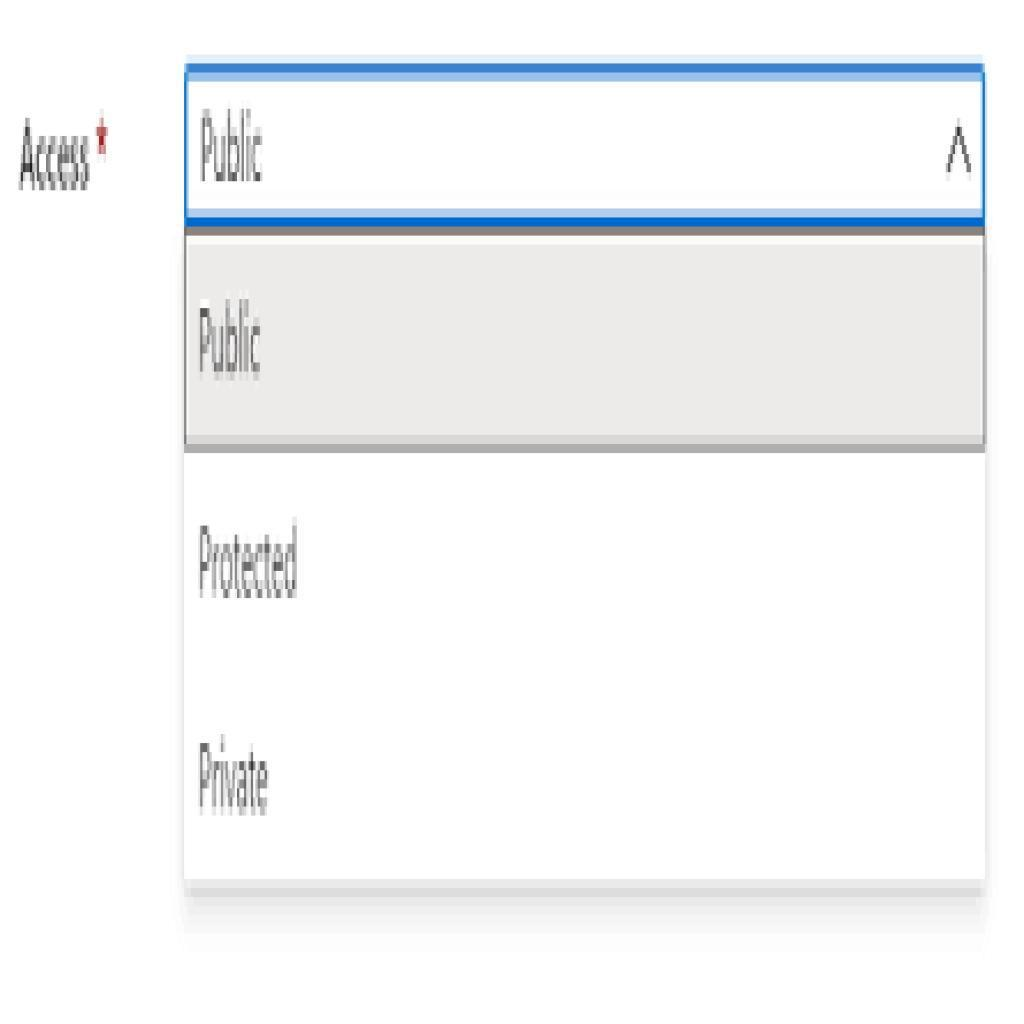dropdown: (185, 63, 987, 230)
icon: (184, 234, 986, 452)
